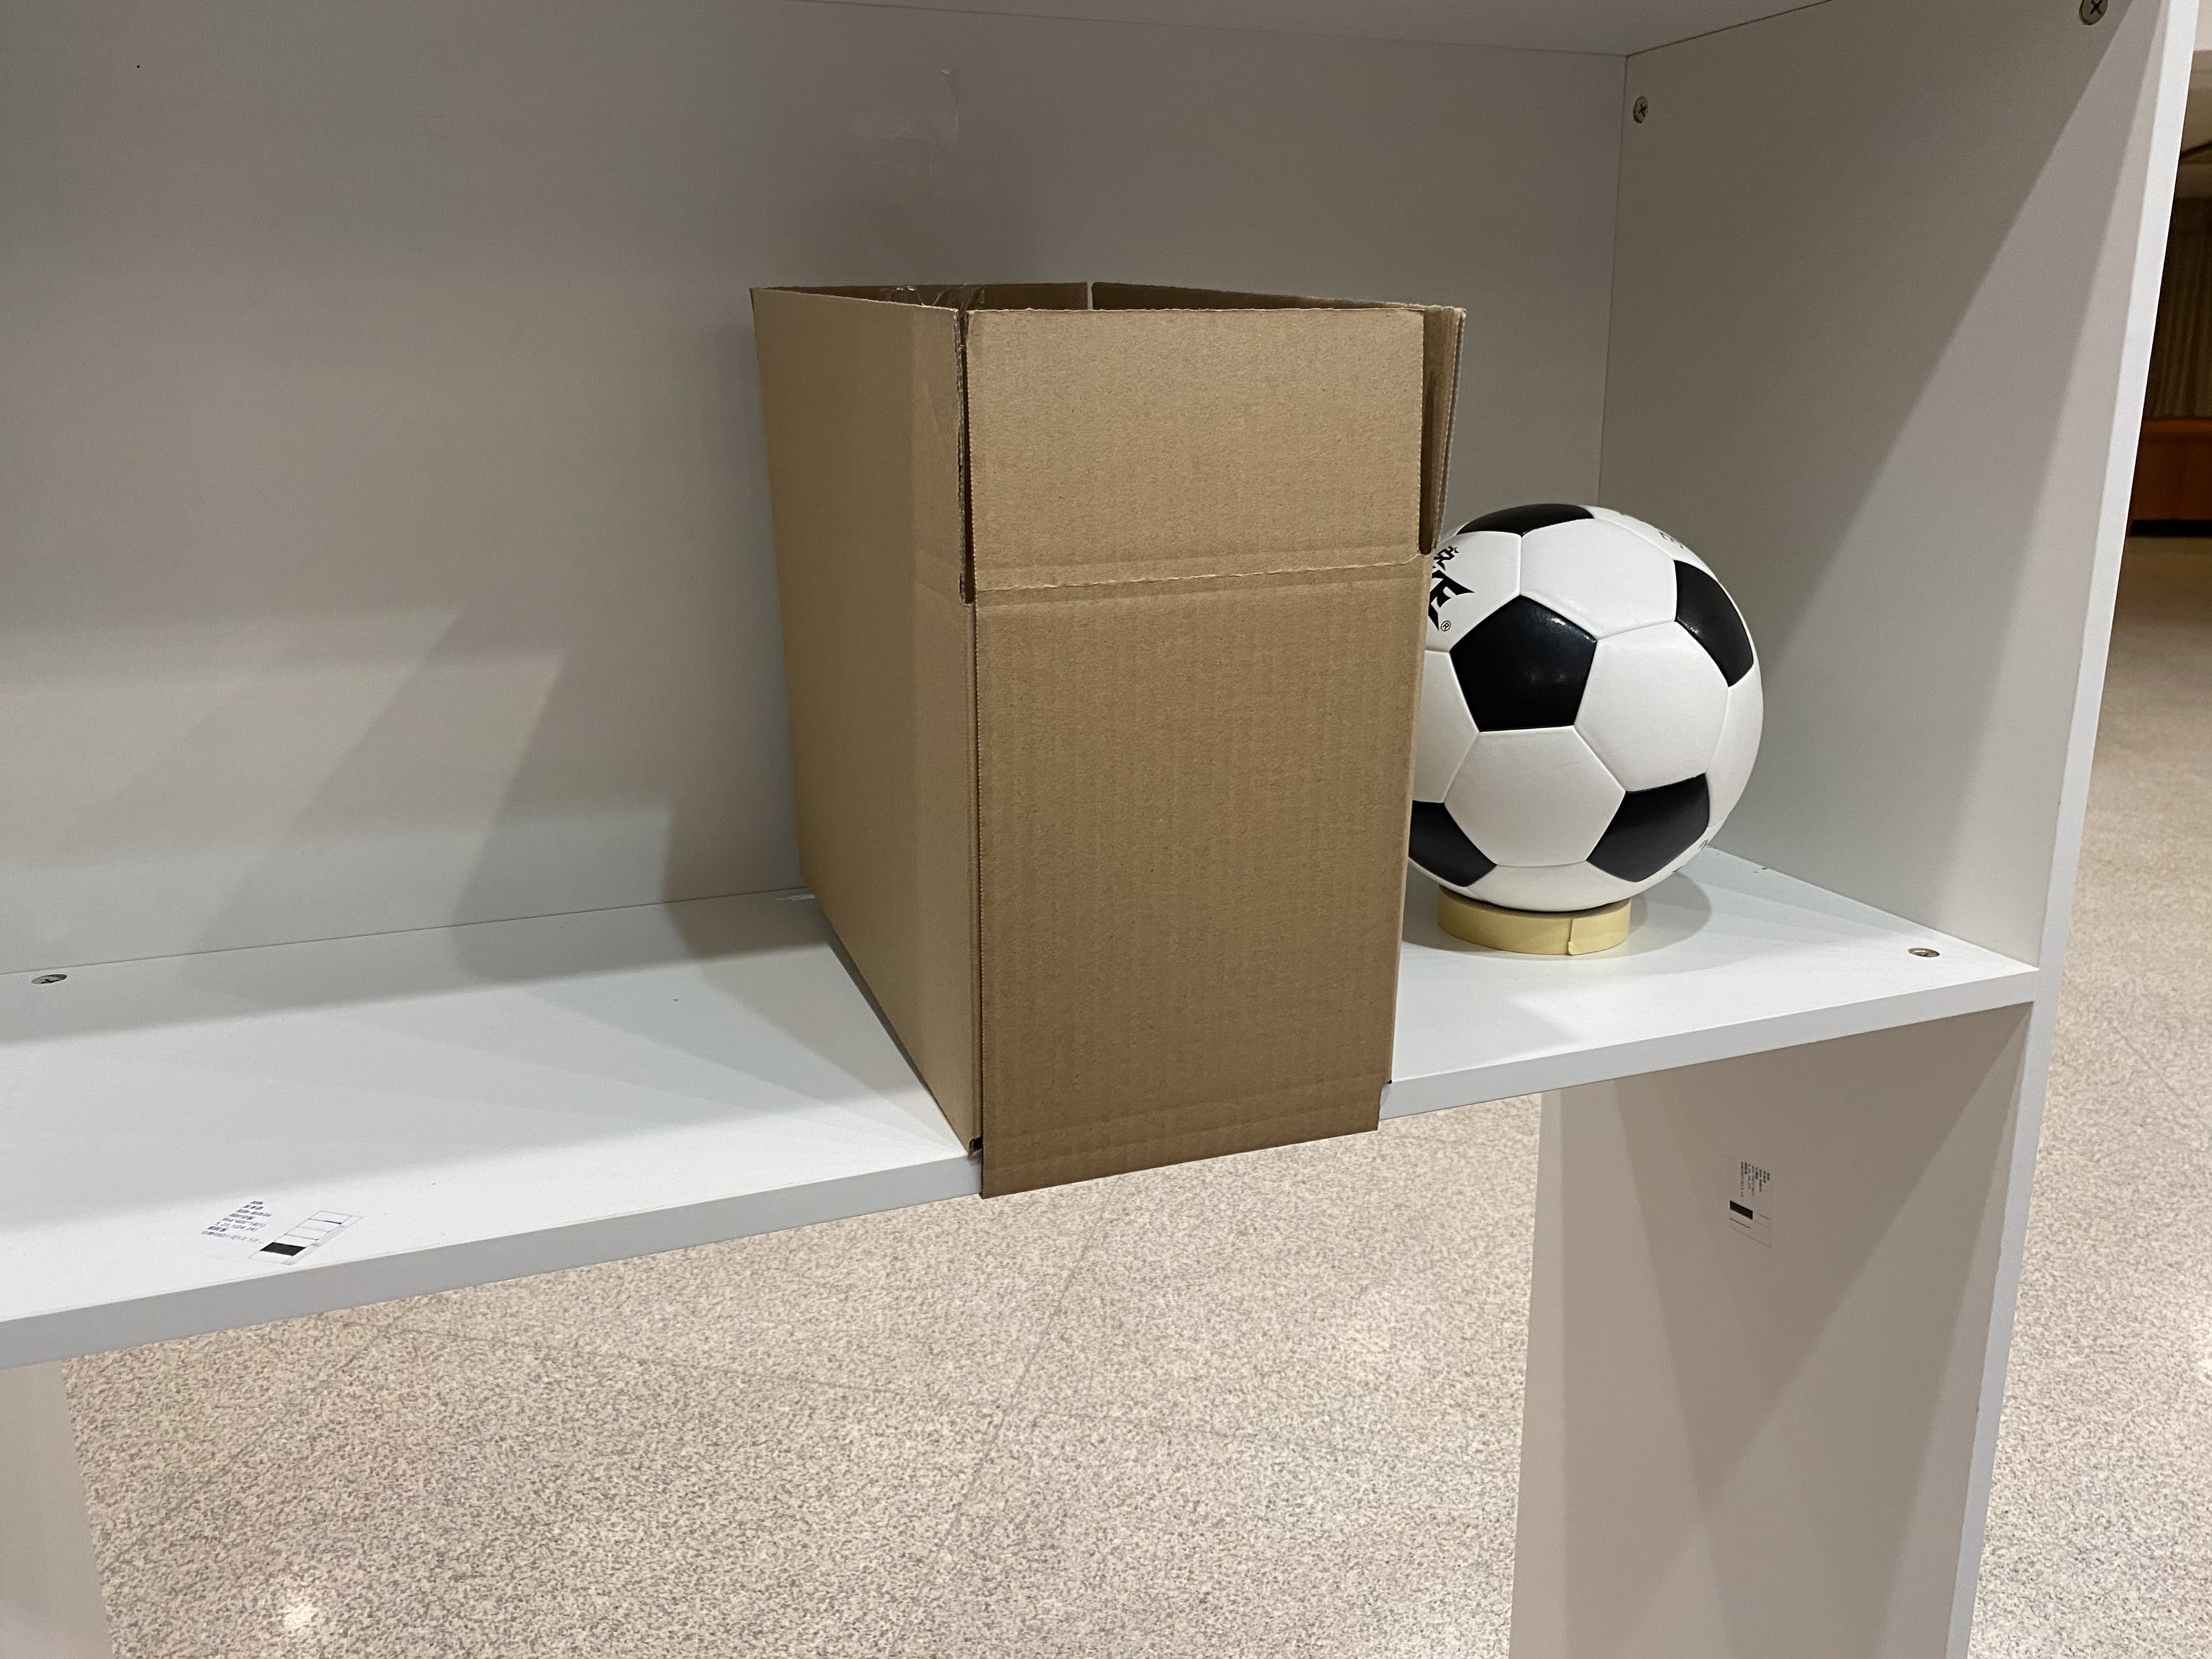football: (1437, 507, 1771, 889)
